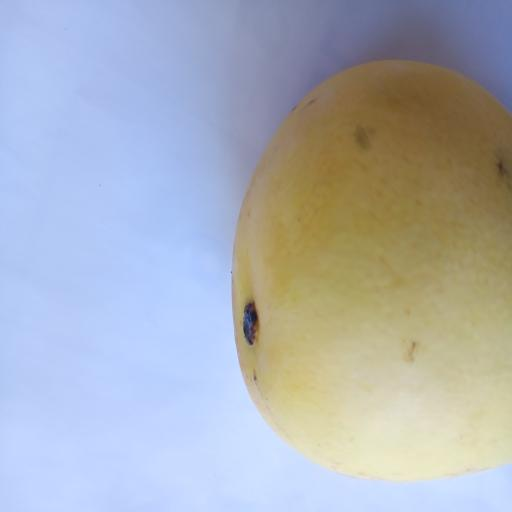mango-ripe: (208, 31, 512, 493)
